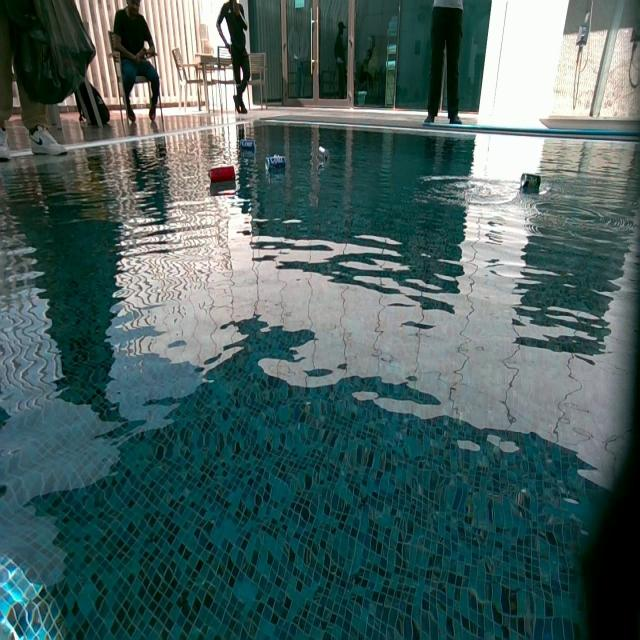Cans: (208, 166, 236, 185), (520, 172, 542, 192), (266, 156, 286, 173), (238, 138, 256, 152), (317, 147, 329, 166)
